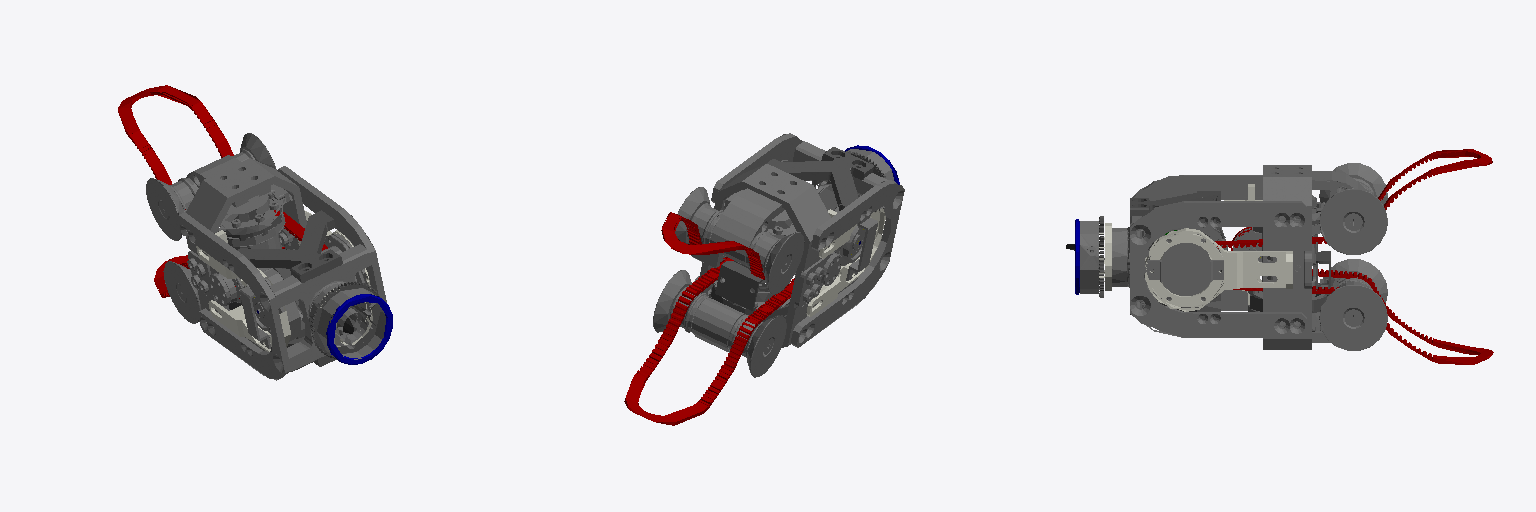
The picture shows the model from 3 angles: view 1: azimuth 30°, elevation 25°; view 2: azimuth 150°, elevation 25°; view 3: azimuth 270°, elevation 25°; orthographic projection.
Bounding box in the file's own units: 0.0622 × 0.0874 × 0.1737.
1 materials, 1 textured.